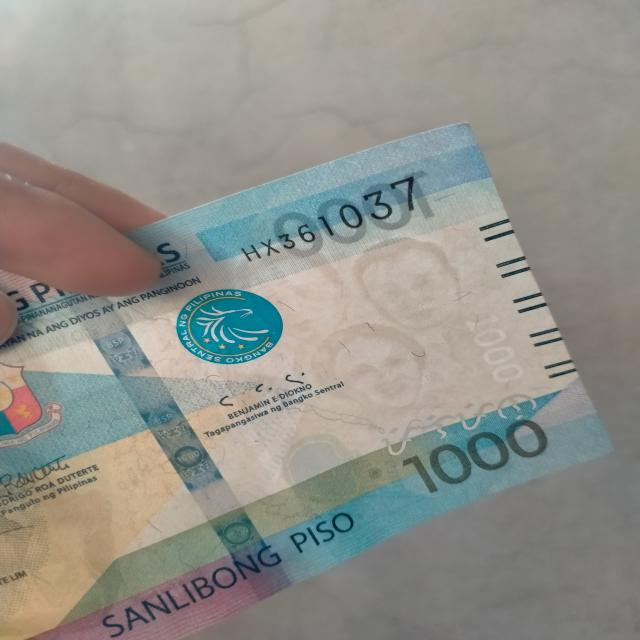security_thread: (48, 254, 295, 602)
see_through_mark: (362, 383, 553, 463)
value_watermark: (462, 301, 527, 394)
watermark: (230, 237, 472, 418)
